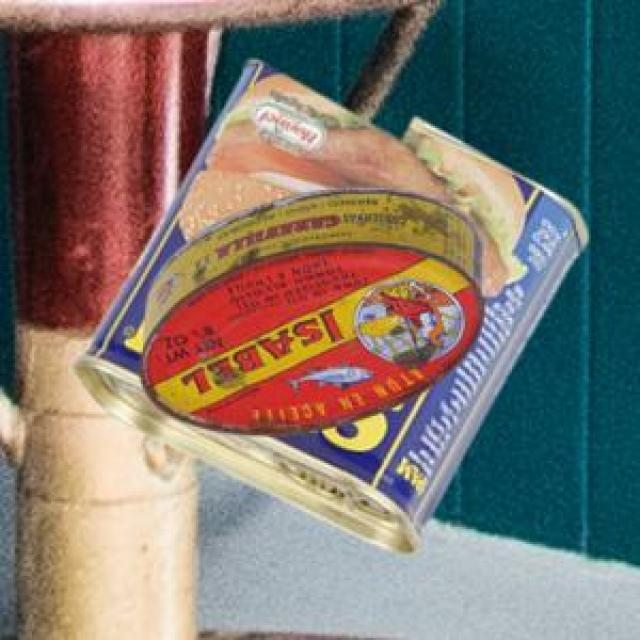logam: (69, 57, 583, 551), (138, 185, 481, 432)
